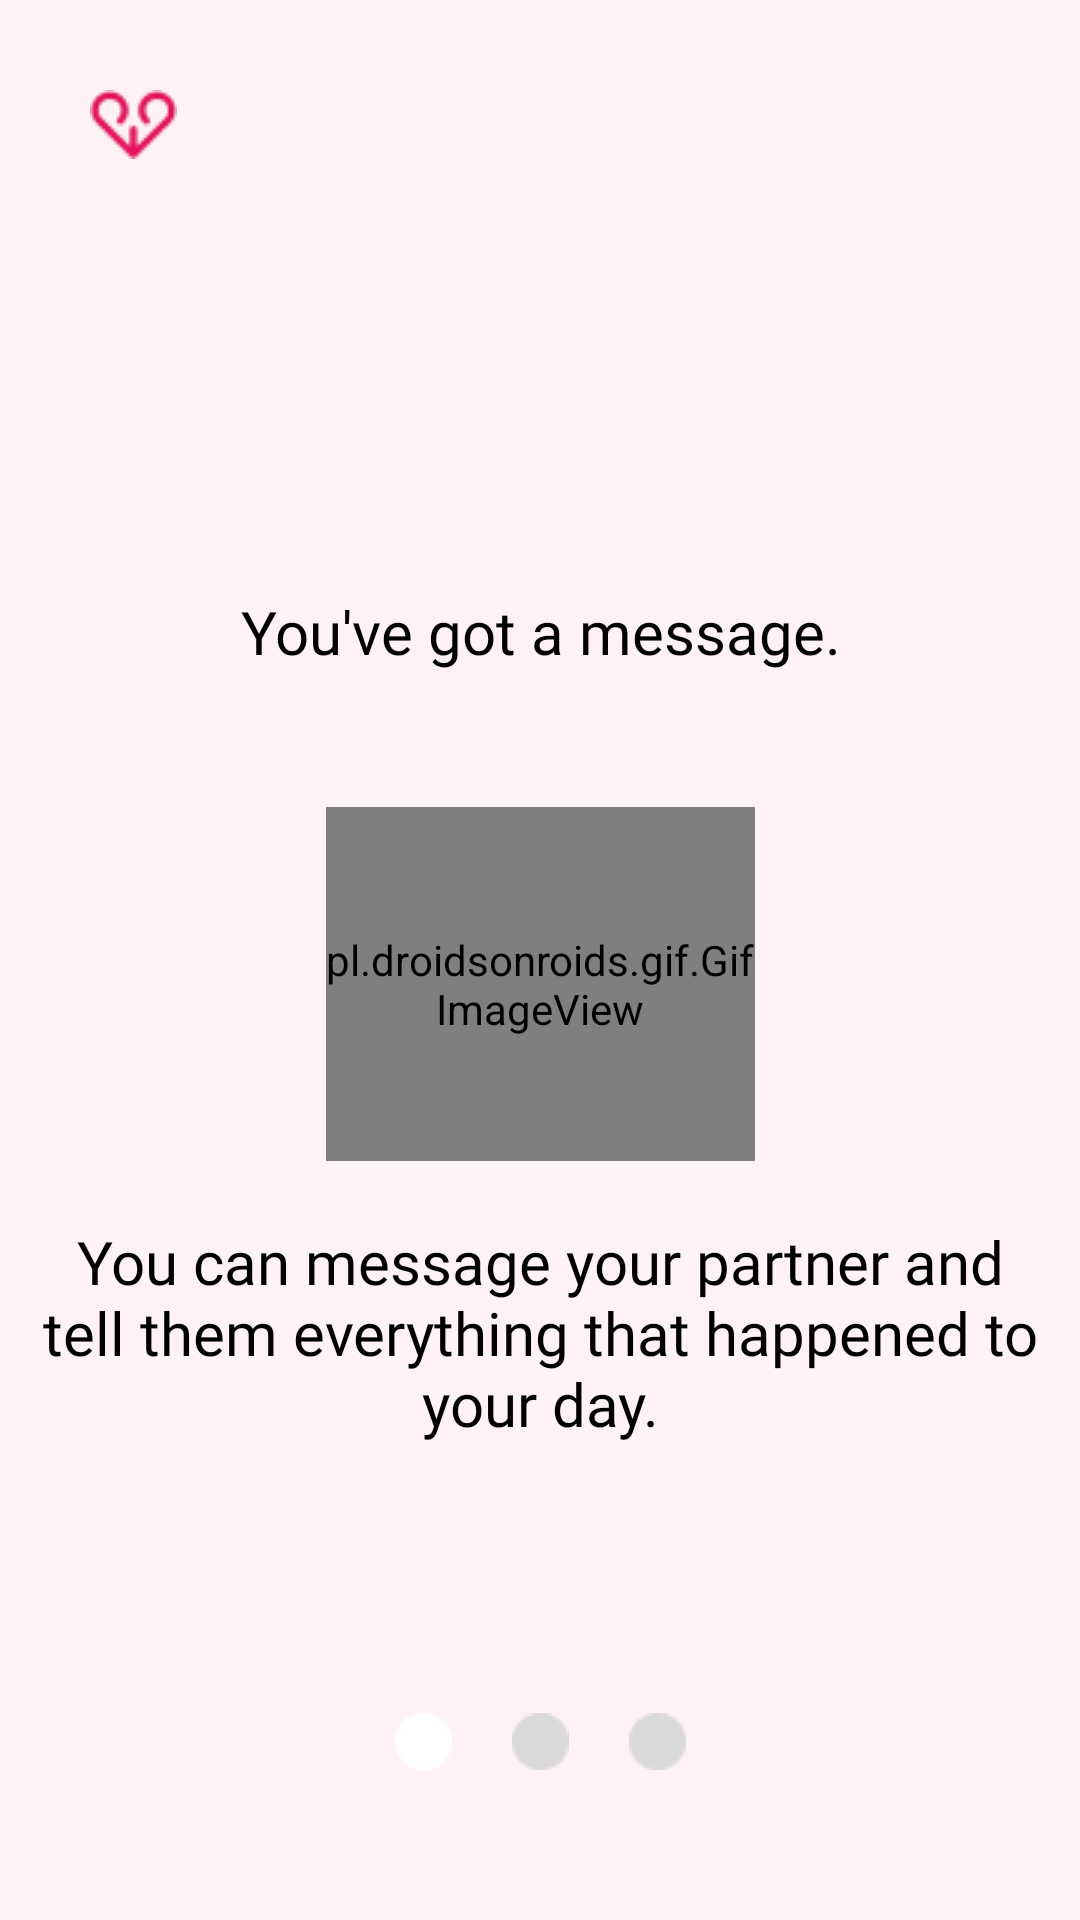

Where to tap for icons on this 1080 × 1920 app screen, as (x,y):
mini heart: (133,124)
